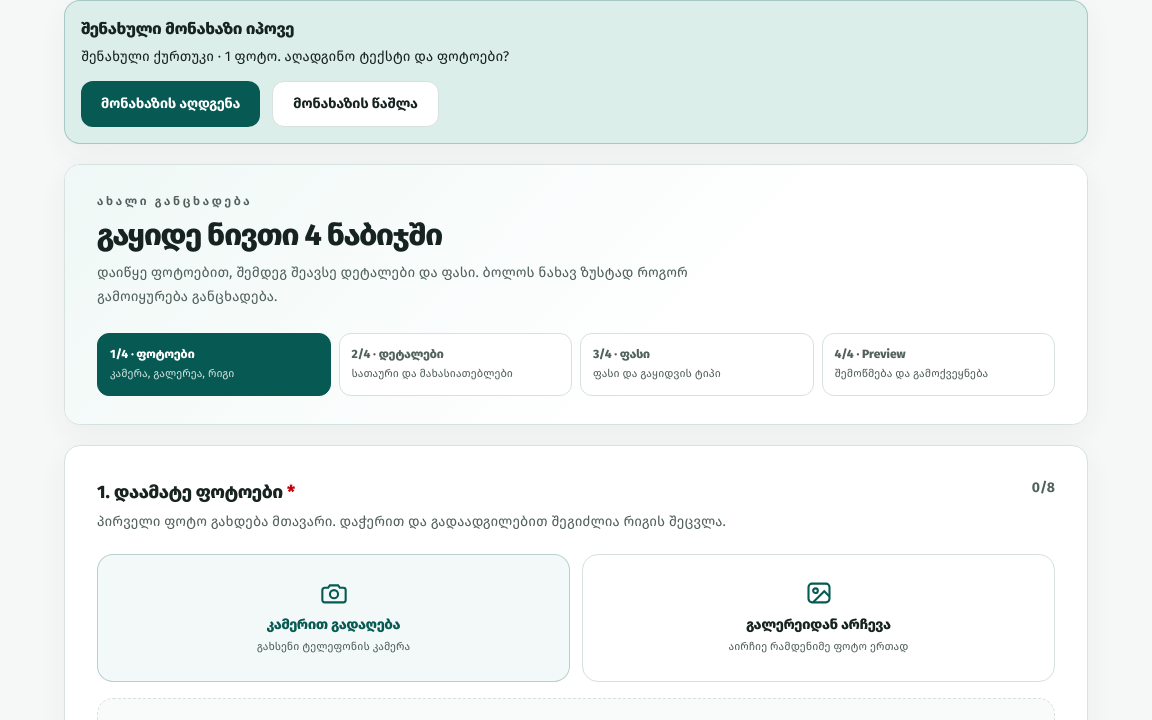
Scenario: allows discarding the old draft instead of restoring it
Click the button "მონახაზის წაშლა" at (356, 104), box [272, 81, 439, 127]
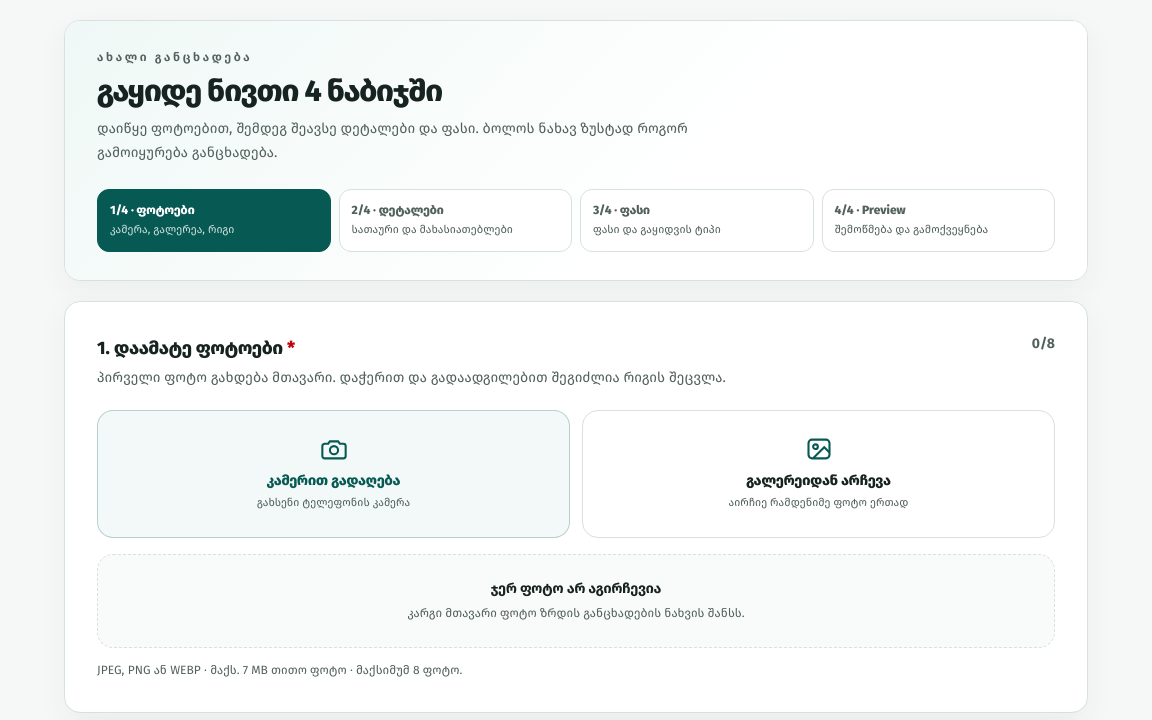
Result: the button "მონახაზის აღდგენა" is gone
